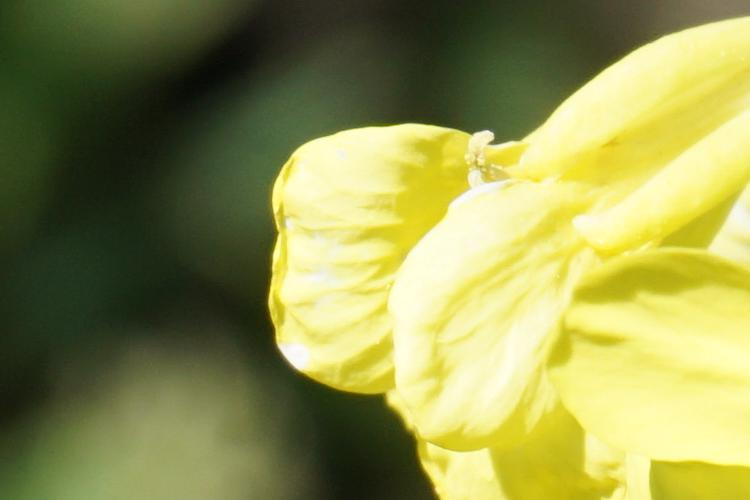yellow: (297, 101, 748, 488)
